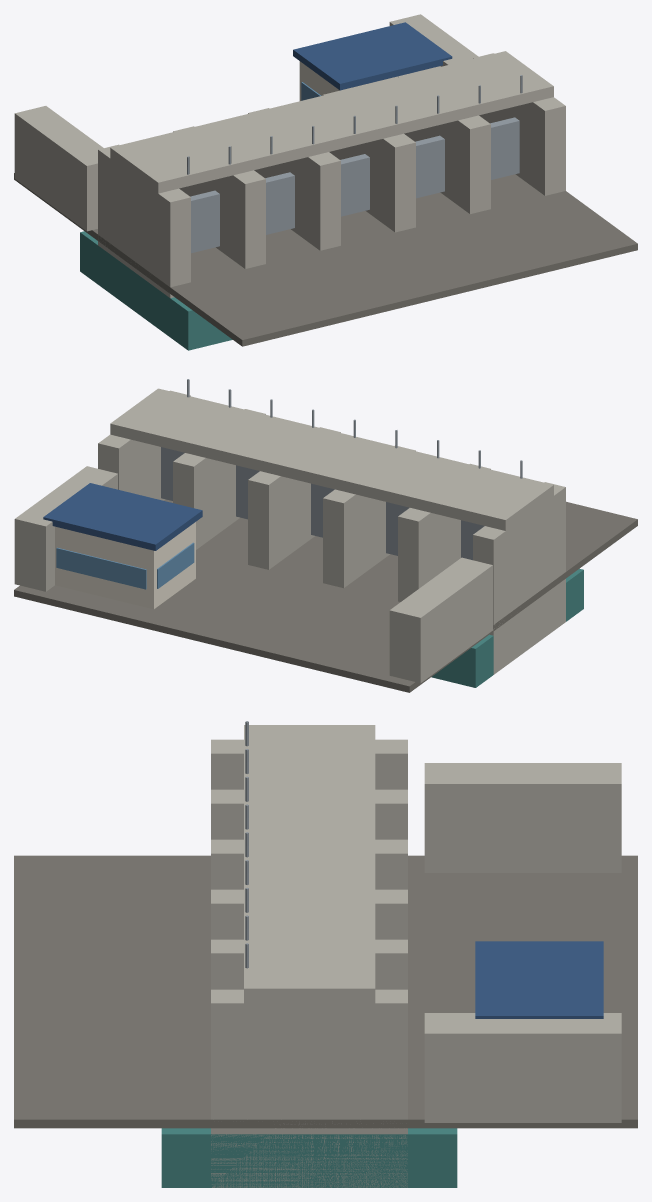
File: building_tebatan_banjir.glb
3 renders of one model, top to bottom at view 1: azimuth 30°, elevation 25°; view 2: azimuth 150°, elevation 25°; view 3: azimuth 270°, elevation 25°, orthographic. The views are drawn at different scales.
Parts seen in each view (by area): view 1: building_tebatan_banjir; view 2: building_tebatan_banjir; view 3: building_tebatan_banjir.
Boxes of the visible parts, x1=… form: building_tebatan_banjir: x1=14, y1=14, x2=637, y2=350; building_tebatan_banjir: x1=14, y1=379, x2=637, y2=692; building_tebatan_banjir: x1=14, y1=721, x2=637, y2=1187.
Bounding box in the file's own units: 1.95 × 0.75 × 1.9.
